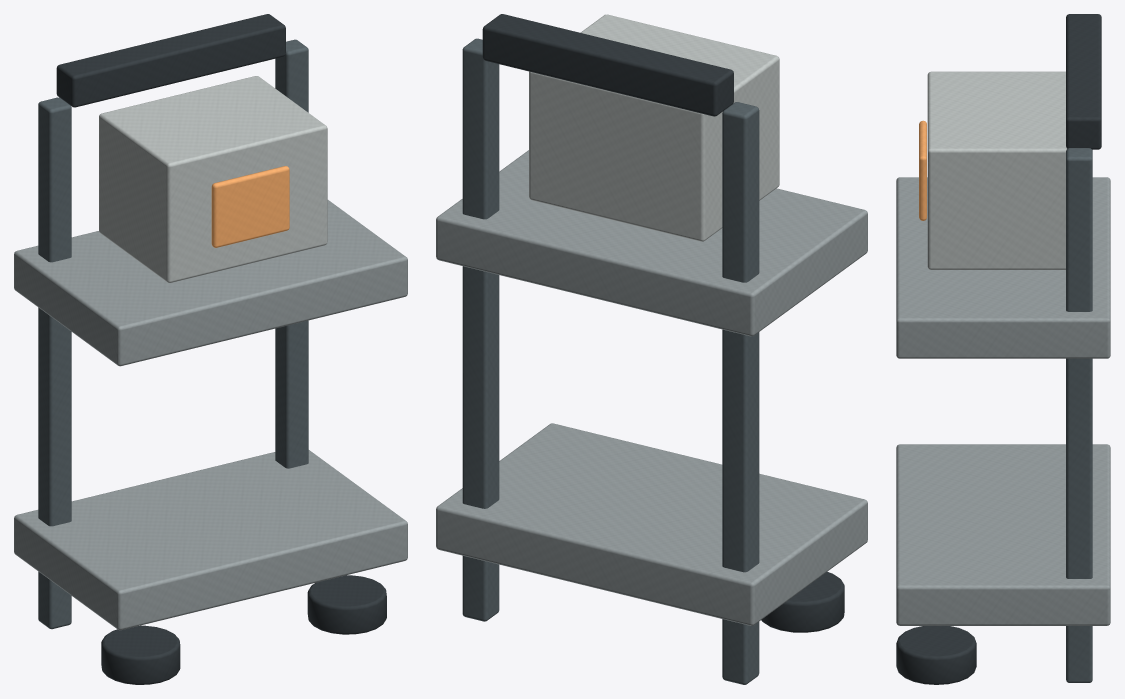
Rendered from MedicalSupplyTrolley.glb.
The picture shows the model from 3 angles, left to right: view 1: azimuth 30°, elevation 25°; view 2: azimuth 150°, elevation 25°; view 3: azimuth 270°, elevation 25°; orthographic projection. The views are drawn at different scales.
Visible parts, largest first — view 1: MedicalSupplyTrolley_Mesh; view 2: MedicalSupplyTrolley_Mesh; view 3: MedicalSupplyTrolley_Mesh.
Boxes of the visible parts, left/top/right/bottom form: MedicalSupplyTrolley_Mesh: left=14, top=14, right=407, bottom=684; MedicalSupplyTrolley_Mesh: left=436, top=14, right=867, bottom=684; MedicalSupplyTrolley_Mesh: left=896, top=14, right=1110, bottom=684.
Bounding box in the file's own units: 0.76 × 1.37 × 0.48.
5 materials, 5 textured.
